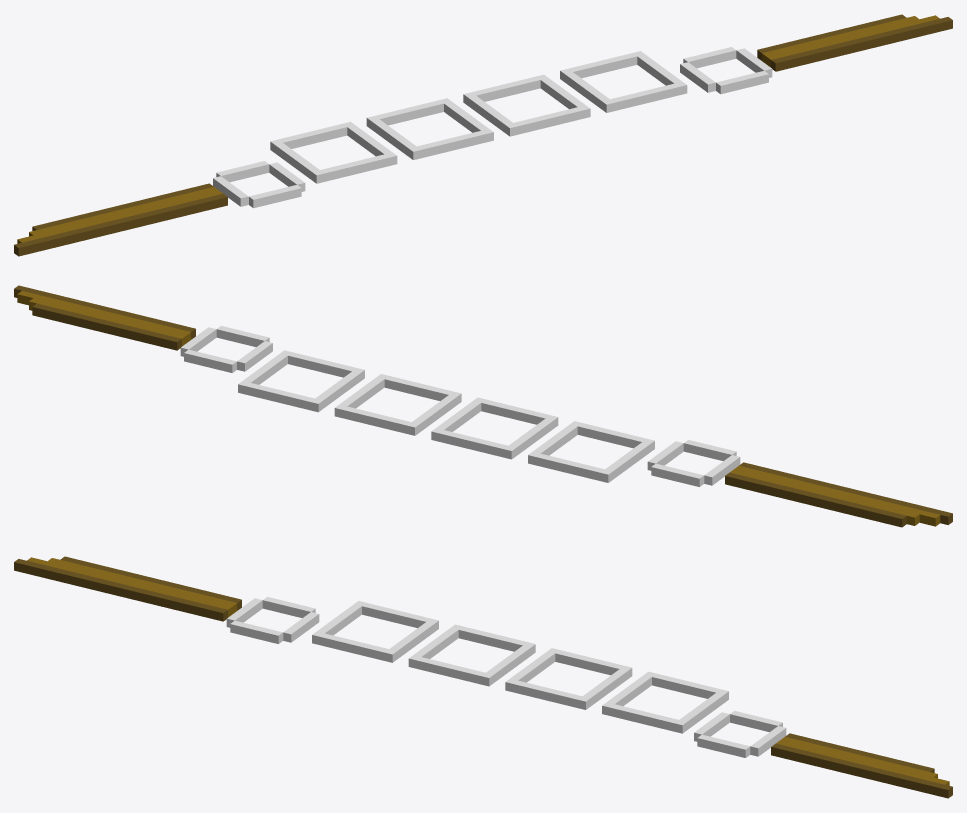
File: UI_SkillBar.fbx
3 views of the same model, one above another, from view 1: azimuth 30°, elevation 25°; view 2: azimuth 150°, elevation 25°; view 3: azimuth 330°, elevation 25° (orthographic).
Visible parts, largest first — view 1: Matrix_part_1; view 2: Matrix_part_1; view 3: Matrix_part_1.
Boxes of the visible parts, x1,y1,x2,y2 form: Matrix_part_1: (14, 14, 952, 256); Matrix_part_1: (14, 285, 952, 527); Matrix_part_1: (14, 556, 952, 798).
Bounding box in the file's own units: 116 × 1 × 12.
Materials: 1 (1 with a texture image).
